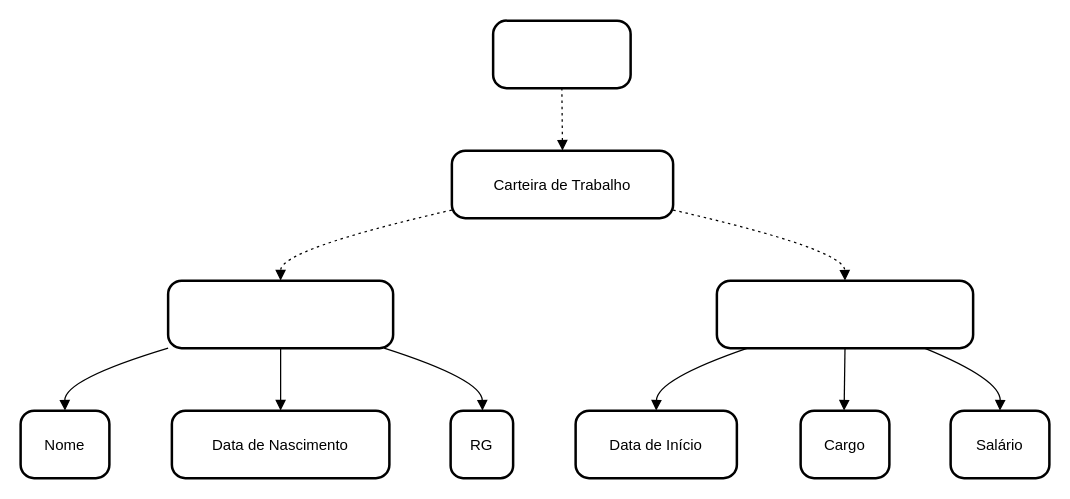
Some shapes in this 1070 by 499 pixel diagram are drawn without their labels. Each missing label, with the centre of its shape:
"Empregado" goes at (x=561, y=54).
"Informações Contratuais" goes at (x=844, y=314).
"Informações Pessoais" goes at (x=280, y=314).
